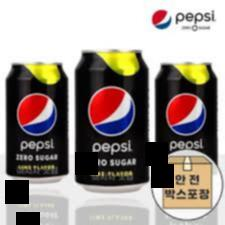pepsi_zero: (73, 49, 146, 194), (5, 61, 69, 185)
